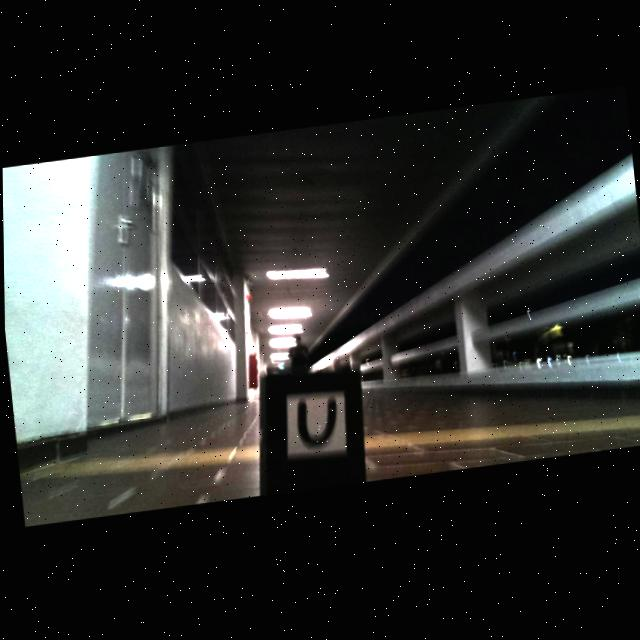U: (296, 401, 335, 446)
